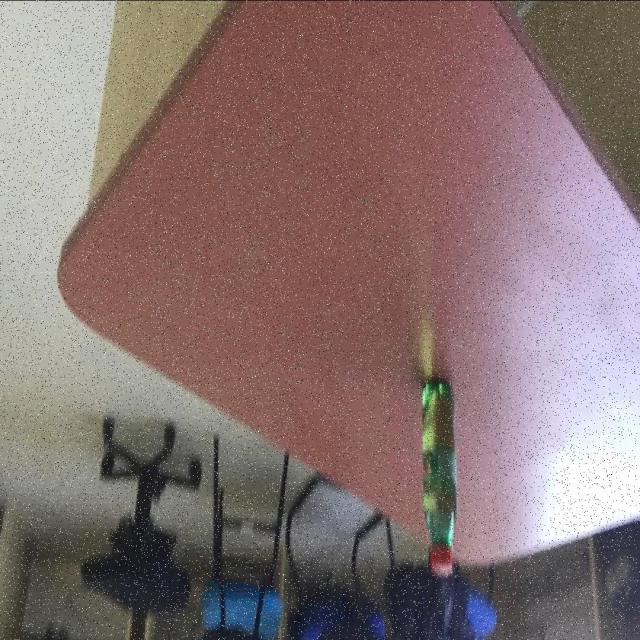Guarana: (55, 0, 640, 568), (419, 373, 457, 573)
